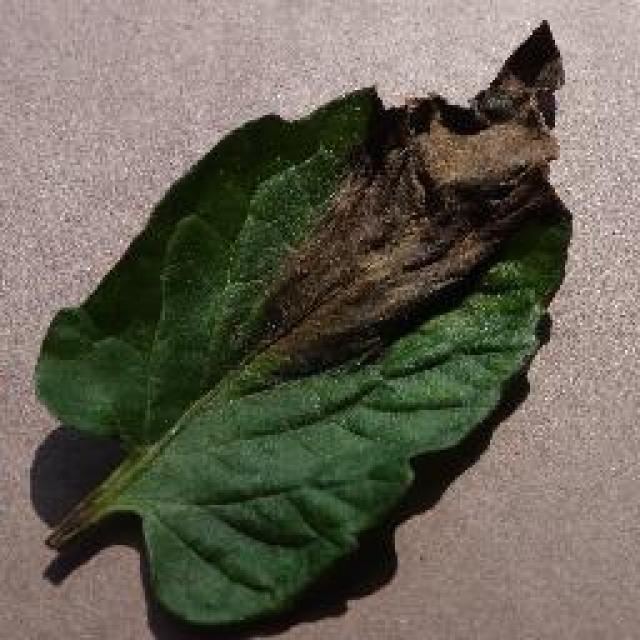Tomato Late Blight: (202, 35, 545, 373)
